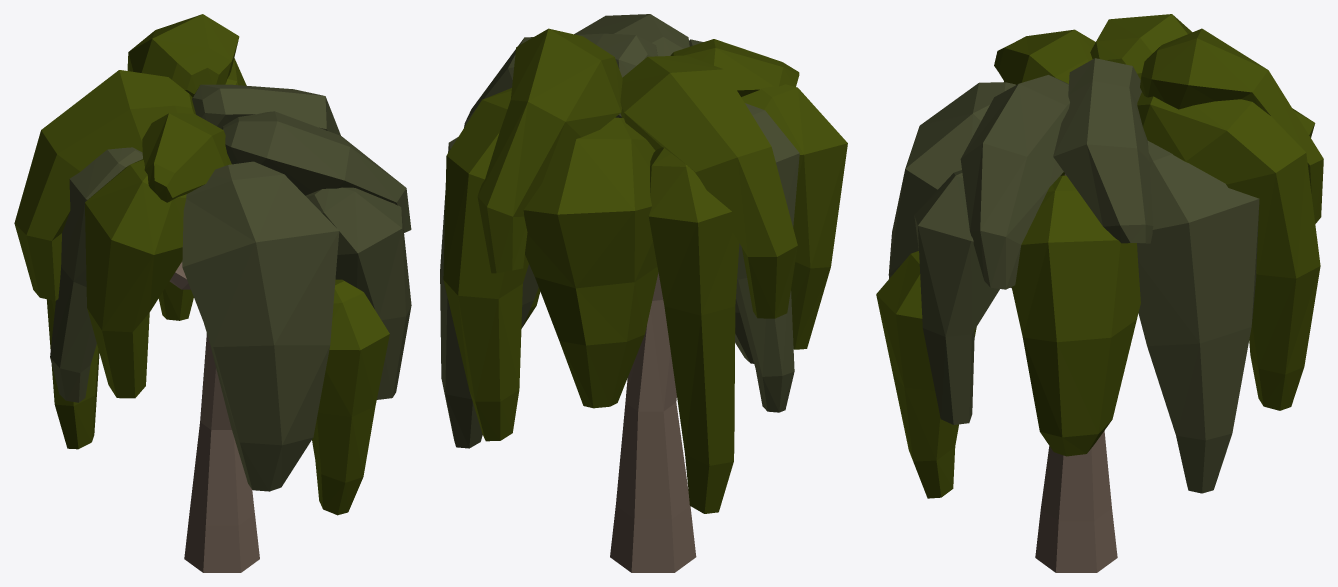
File: tree_0603.dae
The picture shows the model from 3 angles, left to right: view 1: azimuth 30°, elevation 25°; view 2: azimuth 150°, elevation 25°; view 3: azimuth 270°, elevation 25°; orthographic projection. The views are drawn at different scales.
Parts seen in each view (by area): view 1: tree_0603; view 2: tree_0603; view 3: tree_0603.
Part boxes in pixels (left/top/right/bottom): tree_0603: left=14, top=14, right=411, bottom=572; tree_0603: left=440, top=14, right=847, bottom=572; tree_0603: left=876, top=14, right=1323, bottom=572.
Size of the model in its own units: 2.45 by 2.76 by 3.66.
